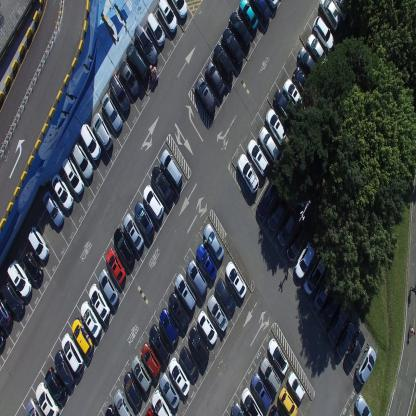car: (133, 22, 158, 66), (125, 42, 150, 83), (61, 332, 85, 374), (150, 164, 174, 205), (43, 366, 68, 405), (342, 327, 364, 371), (228, 9, 252, 49), (70, 141, 94, 181), (61, 155, 84, 196), (236, 152, 258, 194), (303, 257, 326, 297), (224, 260, 247, 300), (167, 291, 190, 331), (148, 322, 171, 362), (89, 282, 112, 322), (70, 316, 93, 356), (8, 259, 32, 297), (101, 92, 123, 133), (221, 26, 244, 65), (212, 43, 235, 82), (118, 58, 141, 97), (160, 148, 183, 187), (1, 279, 25, 316), (256, 180, 278, 220), (246, 137, 268, 177), (267, 336, 289, 376), (174, 272, 196, 312), (113, 226, 135, 266), (188, 324, 210, 364), (50, 174, 74, 210), (158, 306, 179, 347), (123, 211, 144, 252), (355, 346, 377, 385), (168, 357, 190, 396), (98, 268, 120, 307), (80, 301, 102, 340), (54, 351, 76, 390), (109, 73, 130, 113), (79, 122, 100, 162), (267, 195, 289, 233), (257, 125, 279, 163), (186, 259, 208, 297), (130, 355, 152, 393), (194, 76, 216, 114), (92, 112, 114, 150), (203, 222, 224, 261), (35, 381, 59, 415), (286, 224, 308, 261), (276, 209, 298, 246), (312, 15, 334, 52), (293, 241, 315, 278), (259, 356, 281, 393), (158, 372, 180, 409), (204, 60, 226, 97), (42, 190, 64, 227), (313, 271, 333, 311), (250, 371, 271, 409), (134, 200, 155, 238), (214, 278, 236, 314), (26, 225, 48, 261), (142, 184, 164, 220), (266, 107, 286, 146), (327, 307, 348, 344), (335, 321, 356, 358), (196, 243, 217, 280), (207, 295, 228, 332), (197, 309, 218, 346), (179, 344, 199, 382), (105, 248, 126, 284), (319, 0, 341, 34), (22, 250, 44, 284), (140, 341, 160, 378), (122, 371, 142, 408), (321, 290, 341, 326), (146, 11, 166, 47), (157, 0, 178, 34), (274, 88, 294, 122), (283, 77, 303, 111), (307, 32, 327, 66), (240, 386, 263, 415), (298, 45, 318, 77), (238, 0, 258, 32), (150, 389, 174, 415), (293, 65, 311, 99), (287, 369, 305, 403), (113, 389, 136, 415), (278, 387, 298, 415), (250, 0, 271, 25), (0, 294, 14, 328), (355, 392, 374, 416), (170, 0, 189, 22), (25, 397, 44, 415), (231, 400, 247, 416), (104, 403, 119, 415), (268, 403, 281, 415), (0, 329, 7, 351), (266, 0, 278, 10), (144, 408, 156, 415)
